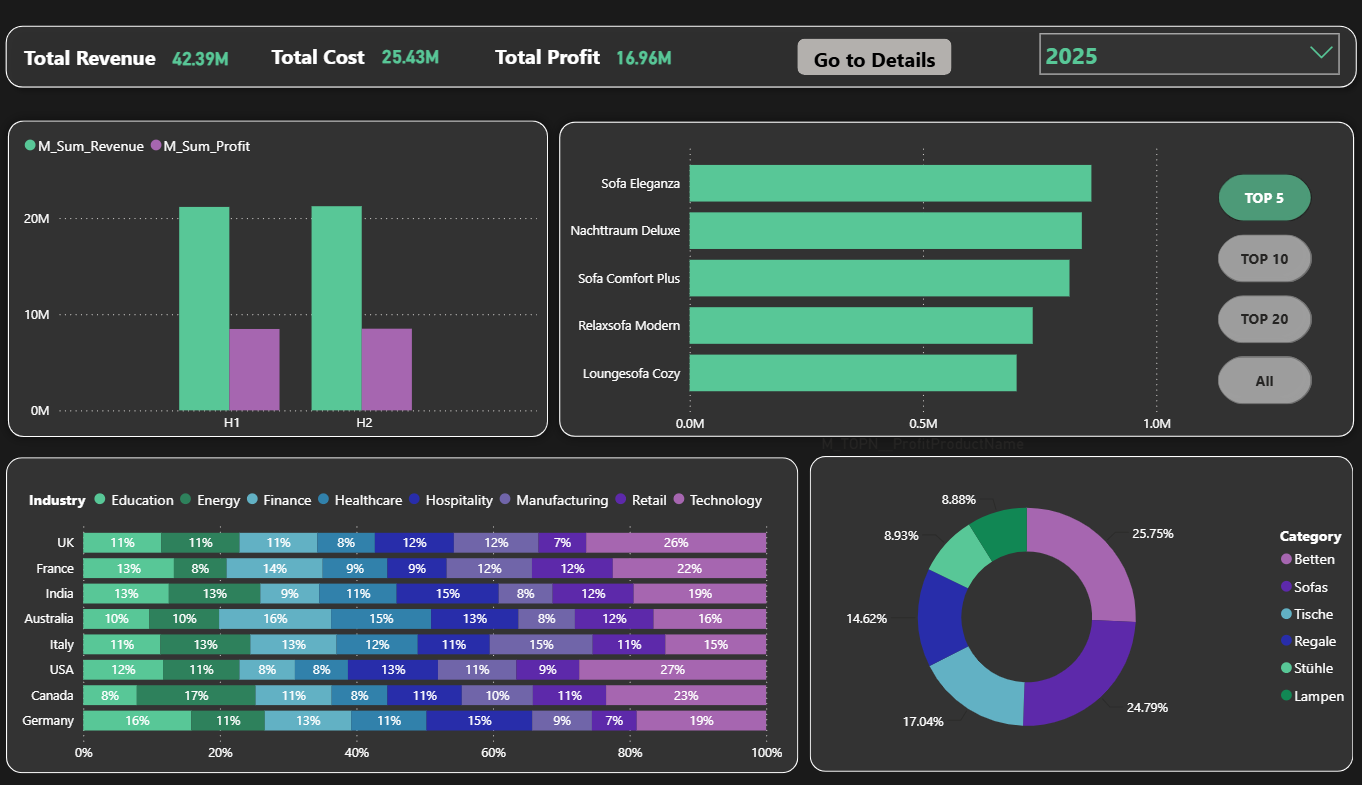

The page's visual inventory and layout, read from the dashboard file:
{"tool":"powerbi","page":{"name":"Header","canvas":[1280,720],"ordinal":0},"visuals":[{"type":"shape","box":[9.1,411.5,739.9,295],"z":0},{"type":"shape","box":[1.4,87.1,524.3,315.7],"z":1000},{"type":"shape","box":[516.3,88.6,762.3,314.3],"z":2000},{"type":"shape","box":[759.5,411.4,507.6,294.9],"z":3000},{"type":"shape","box":[0,0,1279.8,75.9],"z":4000},{"type":"card","fields":{"Values":["ListOfMeasures.M_Sum_Cost"]},"box":[339.9,19.2,95,40.6],"z":5000},{"type":"card","fields":{"Values":["ListOfMeasures.M_Sum_Profit"]},"box":[546,16.5,117.2,47.2],"z":6000},{"type":"card","fields":{"Values":["ListOfMeasures.M_Sum_Revenue"]},"box":[138.2,22,106.7,36.7],"z":7000},{"type":"textbox","box":[252.7,20.1,122.5,40],"z":8000},{"type":"textbox","box":[21.5,20.5,140.5,37.2],"z":9000},{"type":"textbox","box":[461,20.1,122.5,40],"z":10000},{"type":"clusteredColumnChart","fields":{"Y":["ListOfMeasures.M_Sum_Revenue","ListOfMeasures.M_Sum_Profit"],"Category":["DimDate.HalfYearName Hierarchy.HalfYearName","DimDate.HalfYearName Hierarchy.QuarterName","DimDate.HalfYearName Hierarchy.MonthName"]},"box":[21.4,99.8,489,297.8],"z":11000},{"type":"clusteredBarChart","fields":{"Category":["DimProduct.ProductName"],"Y":["ListOfMeasures.M_TOPN__ProfitProductName"]},"box":[522.8,108.9,579.8,303.8],"z":12000},{"type":"hundredPercentStackedBarChart","fields":{"Category":["DimCustomers.Country"],"Y":["ListOfMeasures.M_Sum_Revenue"],"Series":["DimCustomers.Industry"]},"box":[12.1,431.2,727.8,275.4],"z":13000},{"type":"donutChart","fields":{"Category":["DimProduct.Category"],"Y":["ListOfMeasures.M_Sum_Profit"]},"box":[721.2,422,558.8,277.5],"z":14000},{"type":"slicer","fields":{"Values":["DimDate.Year_Date"]},"box":[963.8,6.3,300,55.7],"z":15000},{"type":"advancedSlicerVisual","fields":{"Values":["TopTBL.Value"]},"box":[1145.6,100,100,220.3],"z":16000},{"type":"actionButton","box":[748.1,21.5,144.3,34.2],"z":17000}]}

Visuals, with their boxes in screenshot pixels (x1, y1, x2, y2), scaled from the page's 1280x720 canvas onto the 1362x785 screenshot:
shape: rect(10, 449, 797, 770)
shape: rect(1, 95, 559, 439)
shape: rect(549, 97, 1361, 439)
shape: rect(808, 449, 1348, 770)
shape: rect(0, 0, 1361, 83)
card - ListOfMeasures.M_Sum_Cost: rect(362, 21, 463, 65)
card - ListOfMeasures.M_Sum_Profit: rect(581, 18, 706, 69)
card - ListOfMeasures.M_Sum_Revenue: rect(147, 24, 261, 64)
textbox: rect(269, 22, 399, 66)
textbox: rect(23, 22, 172, 63)
textbox: rect(491, 22, 621, 66)
clusteredColumnChart - ListOfMeasures.M_Sum_Revenue x ListOfMeasures.M_Sum_Profit: rect(23, 109, 543, 433)
clusteredBarChart - DimProduct.ProductName x ListOfMeasures.M_TOPN__ProfitProductName: rect(556, 119, 1173, 450)
hundredPercentStackedBarChart - DimCustomers.Country x ListOfMeasures.M_Sum_Revenue: rect(13, 470, 787, 770)
donutChart - DimProduct.Category x ListOfMeasures.M_Sum_Profit: rect(767, 460, 1361, 763)
slicer - DimDate.Year_Date: rect(1026, 7, 1345, 68)
advancedSlicerVisual - TopTBL.Value: rect(1219, 109, 1325, 349)
actionButton: rect(796, 23, 950, 61)
